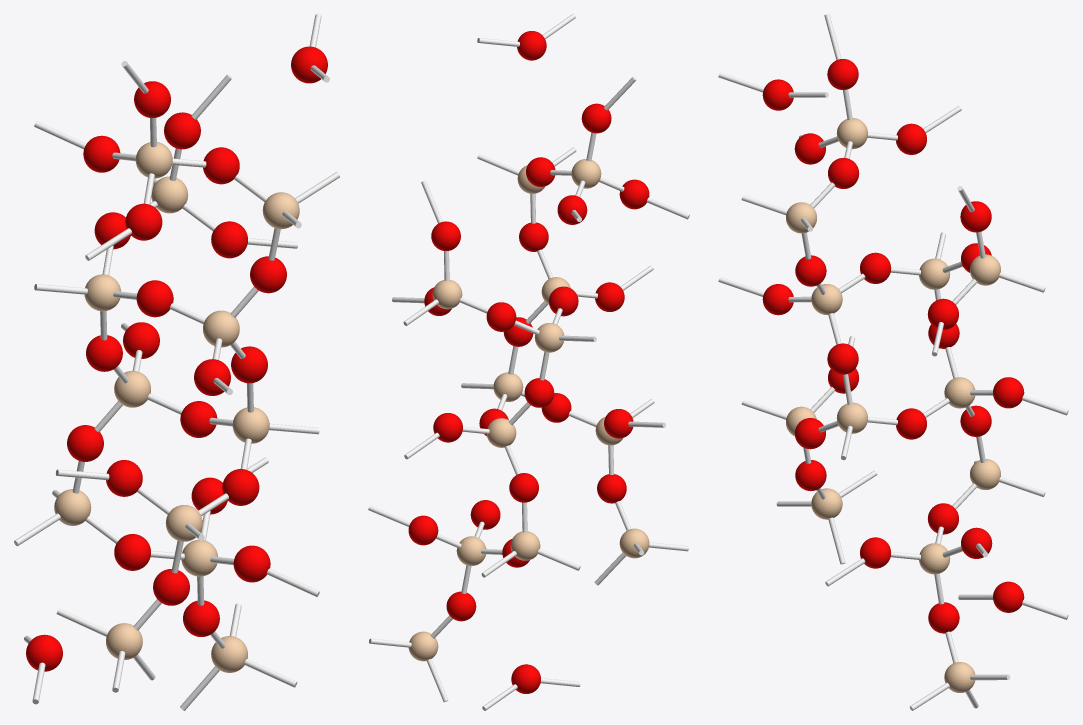
The model's file is structure_mpstyle.glb.
3 renders of one model, left to right at view 1: azimuth 30°, elevation 25°; view 2: azimuth 150°, elevation 25°; view 3: azimuth 270°, elevation 25°, orthographic. The views are drawn at different scales.
Visible parts, largest first — view 1: world; view 2: world; view 3: world.
Boxes of the visible parts, x1,y1,x2,y2 form: world: (14, 14, 339, 710); world: (368, 14, 689, 710); world: (718, 14, 1068, 710).
Bounding box in the file's own units: 7.23 × 17.89 × 8.94.
